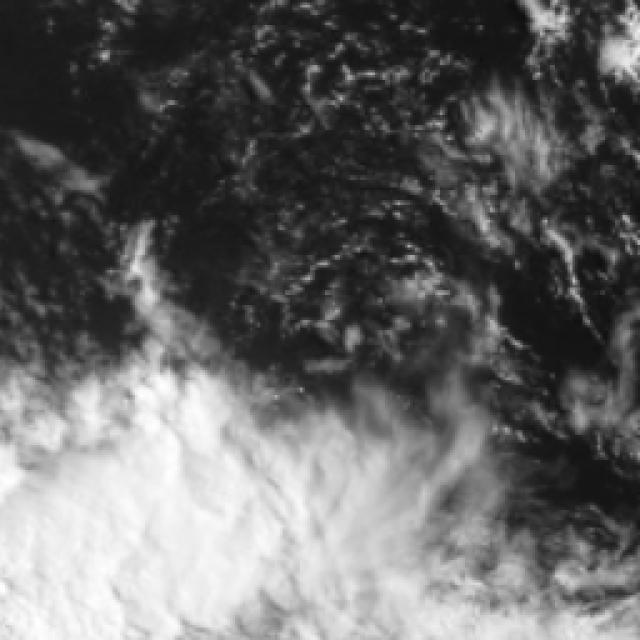CB: (3, 472, 244, 631)
